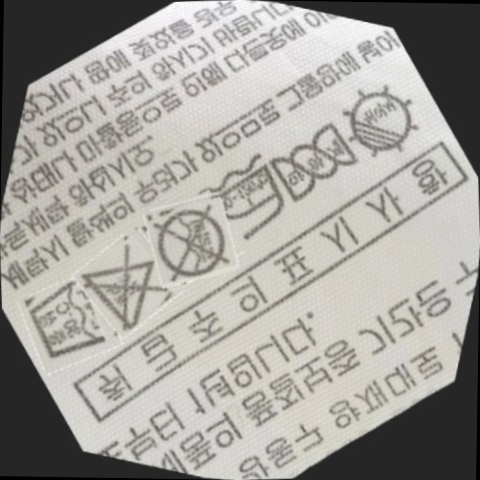DN_dry_clean: (143, 196, 236, 290)
dry_flat_in_shade: (331, 77, 422, 167)
hand_wash: (14, 271, 111, 376)
iron_low: (202, 152, 297, 250)
non_chlorine_bleach: (71, 237, 168, 333)
wring: (258, 106, 360, 212)
